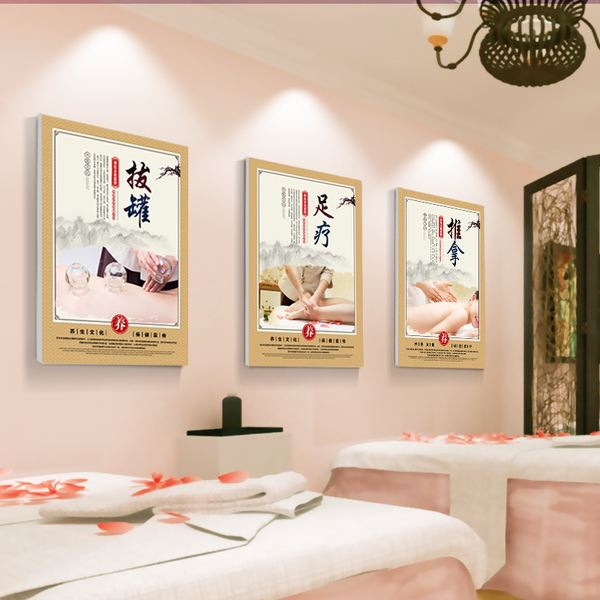bill: (41, 117, 188, 368), (246, 158, 369, 371), (393, 189, 487, 372)
